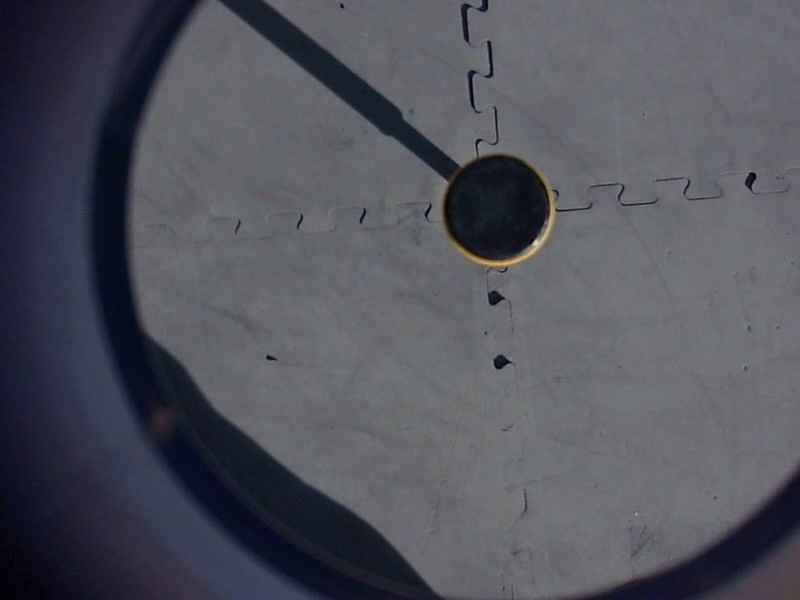tip: (438, 150, 561, 271)
